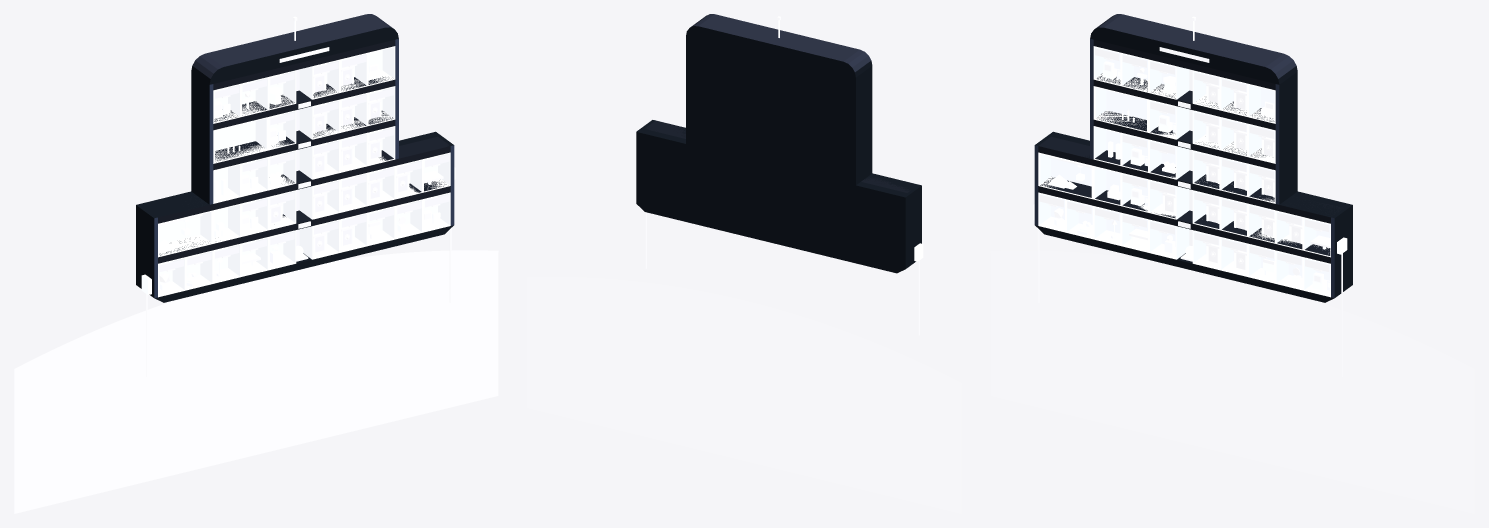
Rendered from hub-cutaway-wide.glb.
The picture shows the model from 3 angles, left to right: view 1: azimuth 30°, elevation 25°; view 2: azimuth 150°, elevation 25°; view 3: azimuth 330°, elevation 25°; orthographic projection. The views are drawn at different scales.
Visible parts, largest first — view 1: hub_wide_hollow, hub_wide_hull, hub_wide_bay_chapel_nave, hub_wide_bay_cargo_hold, hub_wide_bay_mess_online, hub_wide_bay_cargo_crates, hub_wide_bay_furnace_coop, hub_wide_bay_furnace_choir, hub_wide_bay_chapel_chaplain, hub_wide_bay_bridge_ballast, hub_wide_bay_mess_bot, hub_wide_bay_bridge_console (+26 smaller); view 2: hub_wide_hollow, hub_wide_hull; view 3: hub_wide_hollow, hub_wide_hull, hub_wide_bay_chapel_nave, hub_wide_bay_cargo_hold, hub_wide_bay_mess_bot, hub_wide_bay_bridge_ranked, hub_wide_bay_mess_daily, hub_wide_bay_cargo_swarm, hub_wide_bay_furnace_coop, hub_wide_bay_chapel_logs, hub_wide_bay_bridge_ballast, hub_wide_bay_chapel_chaplain (+26 smaller).
Part boxes in pixels (box(x1,y1,x2,y2)): hub_wide_hollow: box(14, 250, 498, 513); hub_wide_hull: box(136, 14, 454, 302); hub_wide_bay_chapel_nave: box(213, 117, 268, 163); hub_wide_bay_cargo_hold: box(158, 210, 213, 257); hub_wide_bay_mess_online: box(200, 243, 240, 283); hub_wide_bay_cargo_crates: box(200, 203, 240, 243); hub_wide_bay_furnace_coop: box(255, 150, 296, 190); hub_wide_bay_furnace_choir: box(299, 139, 339, 179); hub_wide_bay_chapel_chaplain: box(299, 99, 339, 139); hub_wide_bay_bridge_ballast: box(299, 59, 339, 99); hub_wide_bay_mess_bot: box(255, 230, 296, 270); hub_wide_bay_bridge_console: box(355, 46, 395, 85); hub_wide_hollow: box(527, 276, 961, 513); hub_wide_hull: box(636, 14, 921, 273); hub_wide_hollow: box(990, 250, 1474, 513); hub_wide_hull: box(1034, 14, 1352, 302); hub_wide_bay_chapel_nave: box(1093, 86, 1161, 132); hub_wide_bay_cargo_hold: box(1038, 152, 1106, 199); hub_wide_bay_mess_bot: box(1149, 219, 1189, 259); hub_wide_bay_bridge_ranked: box(1149, 59, 1189, 99); hub_wide_bay_mess_daily: box(1248, 243, 1288, 283); hub_wide_bay_cargo_swarm: box(1149, 179, 1189, 219); hub_wide_bay_furnace_coop: box(1149, 139, 1189, 179); hub_wide_bay_chapel_logs: box(1149, 99, 1189, 139); hub_wide_bay_bridge_ballast: box(1192, 70, 1233, 110); hub_wide_bay_chapel_chaplain: box(1192, 110, 1233, 150).
Size of the model in its own units: 17.48 by 16.08 by 3.03.
